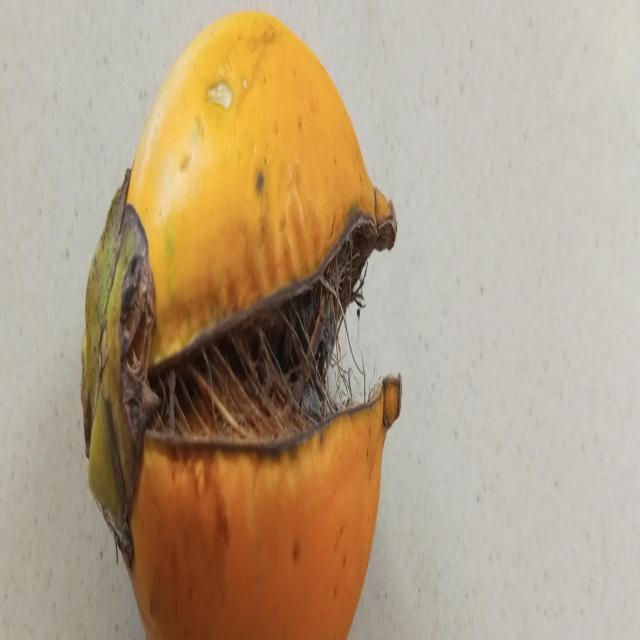damaged: (81, 11, 402, 640)
